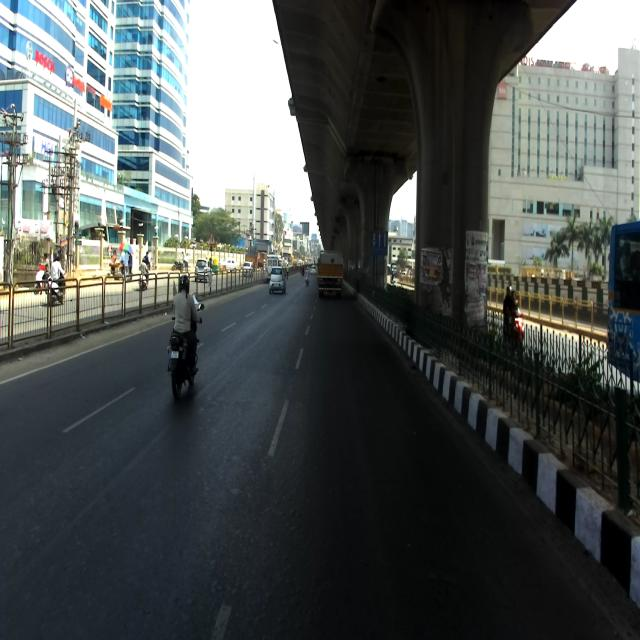motorcycle ahead at: (166, 326, 206, 399)
